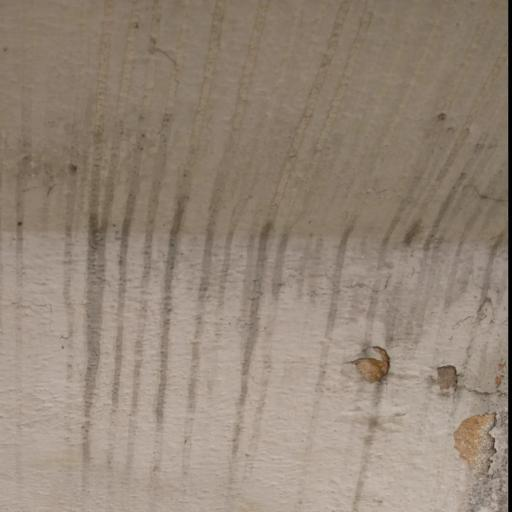stain: (45, 8, 512, 456)
